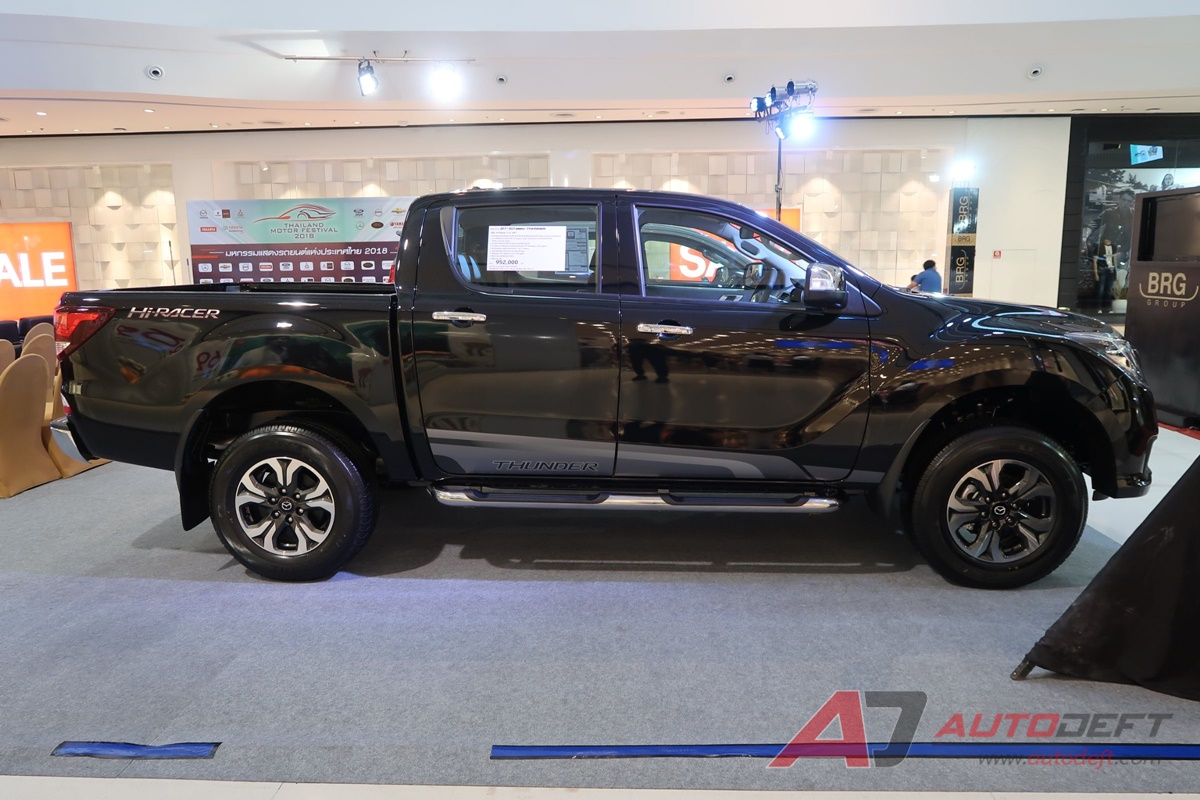pickup: (41, 181, 1164, 579)
